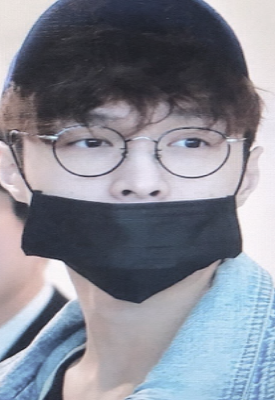mask_weared_incorrect: (18, 107, 244, 304)
